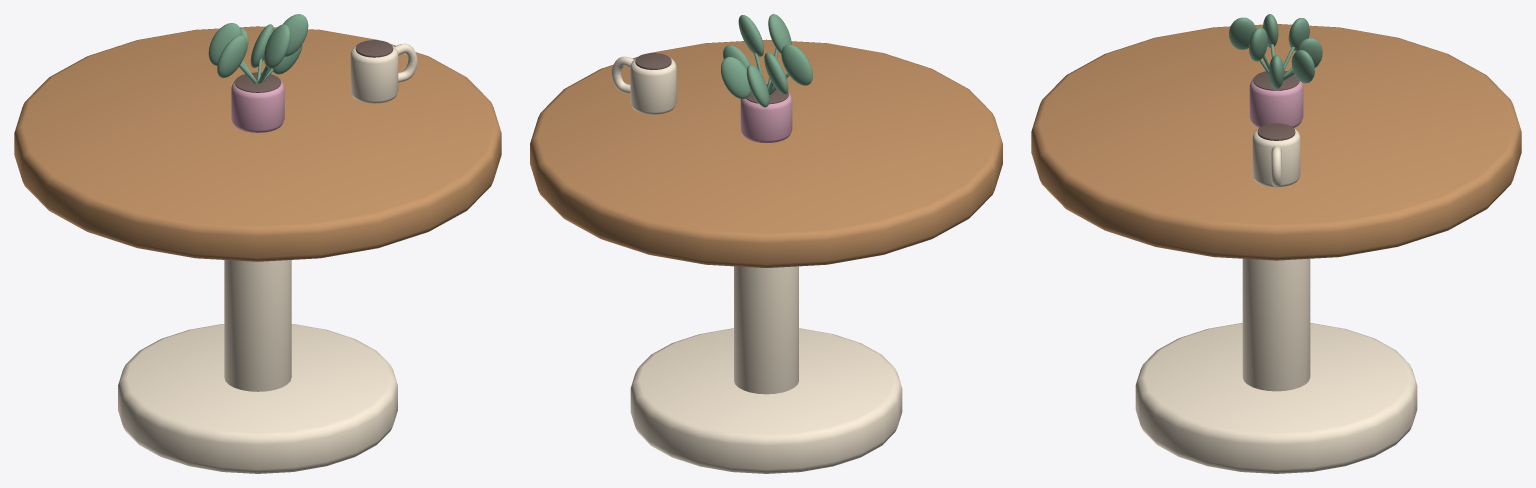
Rendered from round-table.glb.
3 renders of one model, left to right at view 1: azimuth 30°, elevation 25°; view 2: azimuth 150°, elevation 25°; view 3: azimuth 270°, elevation 25°, orthographic. The views are drawn at different scales.
Visible parts, largest first — view 1: AssetSurface; view 2: AssetSurface; view 3: AssetSurface.
Boxes of the visible parts, <box> form: AssetSurface: <box>14,14,501,473</box>; AssetSurface: <box>530,14,1002,473</box>; AssetSurface: <box>1031,14,1521,473</box>.
Bounding box in the file's own units: 1.74 × 1.59 × 1.74.
